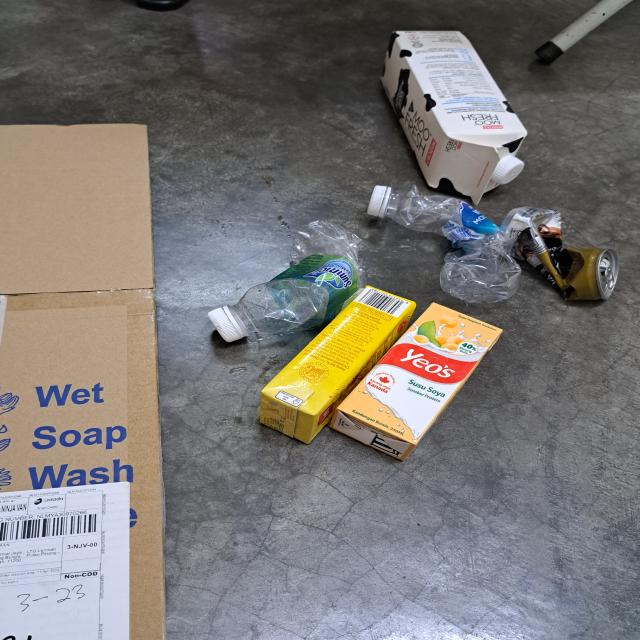can: (503, 205, 619, 304)
cardboard: (0, 122, 163, 640)
drink carton: (335, 303, 504, 462), (379, 30, 530, 206), (259, 283, 414, 446)
plastic bottle: (211, 220, 361, 342), (369, 186, 522, 304)
plastic bottle cap: (211, 305, 251, 345), (490, 156, 525, 187), (366, 186, 395, 215)
pop tab: (600, 258, 618, 287)
